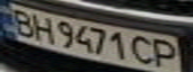1: (106, 29, 130, 61)
4: (72, 22, 93, 54)
7: (87, 26, 109, 56)
9: (51, 19, 78, 48)
B: (6, 7, 39, 38)
C: (127, 34, 160, 66)
H: (27, 12, 60, 44)
P: (148, 36, 184, 70)
